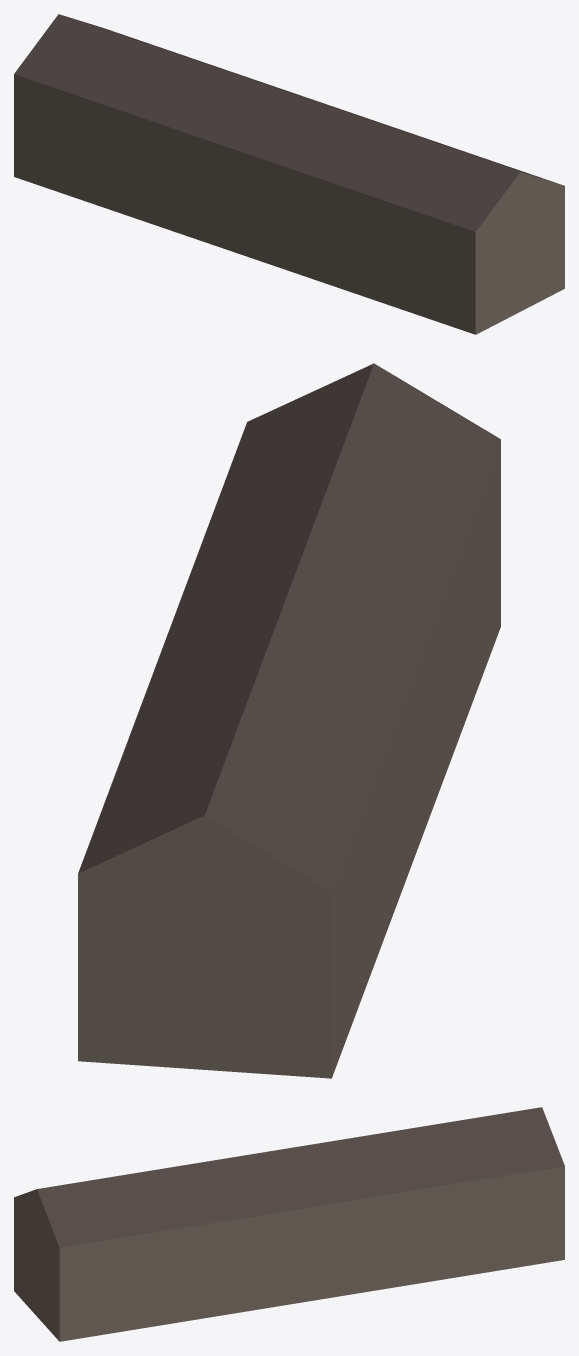
The picture shows the model from 3 angles, top to bottom: view 1: azimuth 30°, elevation 25°; view 2: azimuth 150°, elevation 25°; view 3: azimuth 270°, elevation 25°; orthographic projection. The views are drawn at different scales.
Parts seen in each view (by area): view 1: HP-w369317531; view 2: HP-w369317531; view 3: HP-w369317531.
Part boxes in pixels (x1,y1,x2,y2): HP-w369317531: (14, 14, 564, 334); HP-w369317531: (78, 363, 500, 1078); HP-w369317531: (14, 1107, 564, 1341).
Size of the model in its own units: 18.24 by 8.15 by 31.98.
